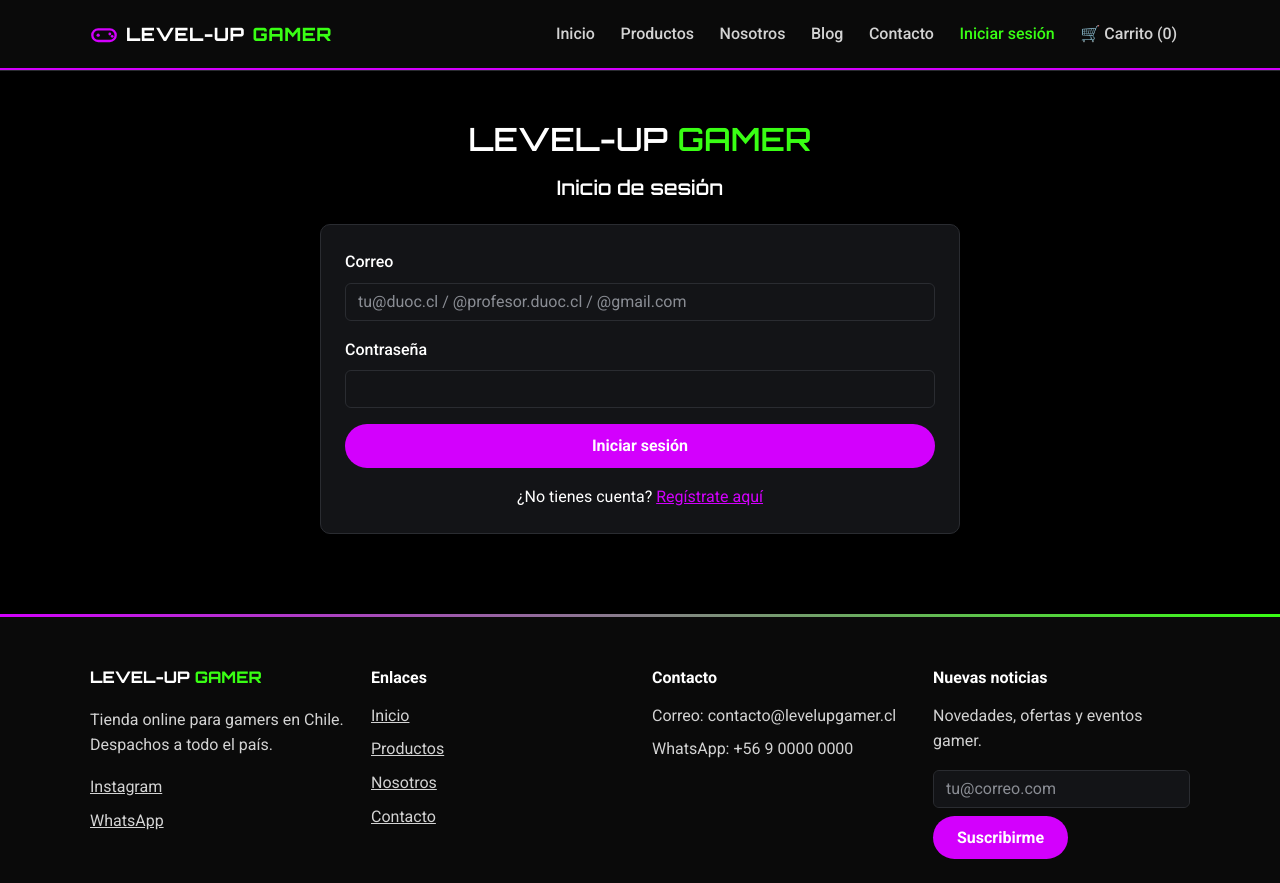
<Login /> (formulario de inicio de sesión) › con credenciales incorrectas muestra el error y no inicia sesión
The image size is (1280, 883).
Type "ana@gmail.com" into the field labelled "Correo" at [640, 302], box [345,283,935,321]
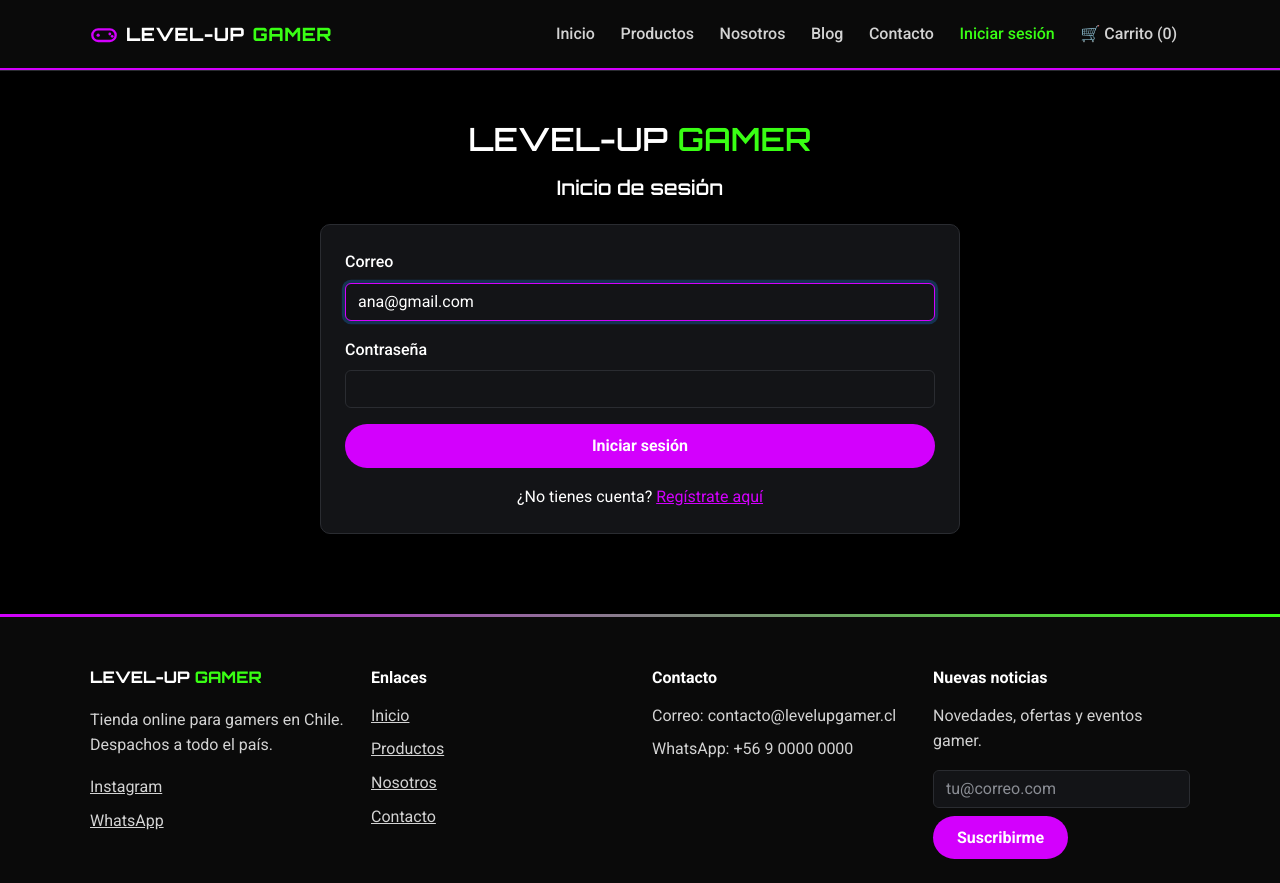
Type "mala" into the password field labelled "Contraseña" at [640, 389], box [345,370,935,408]
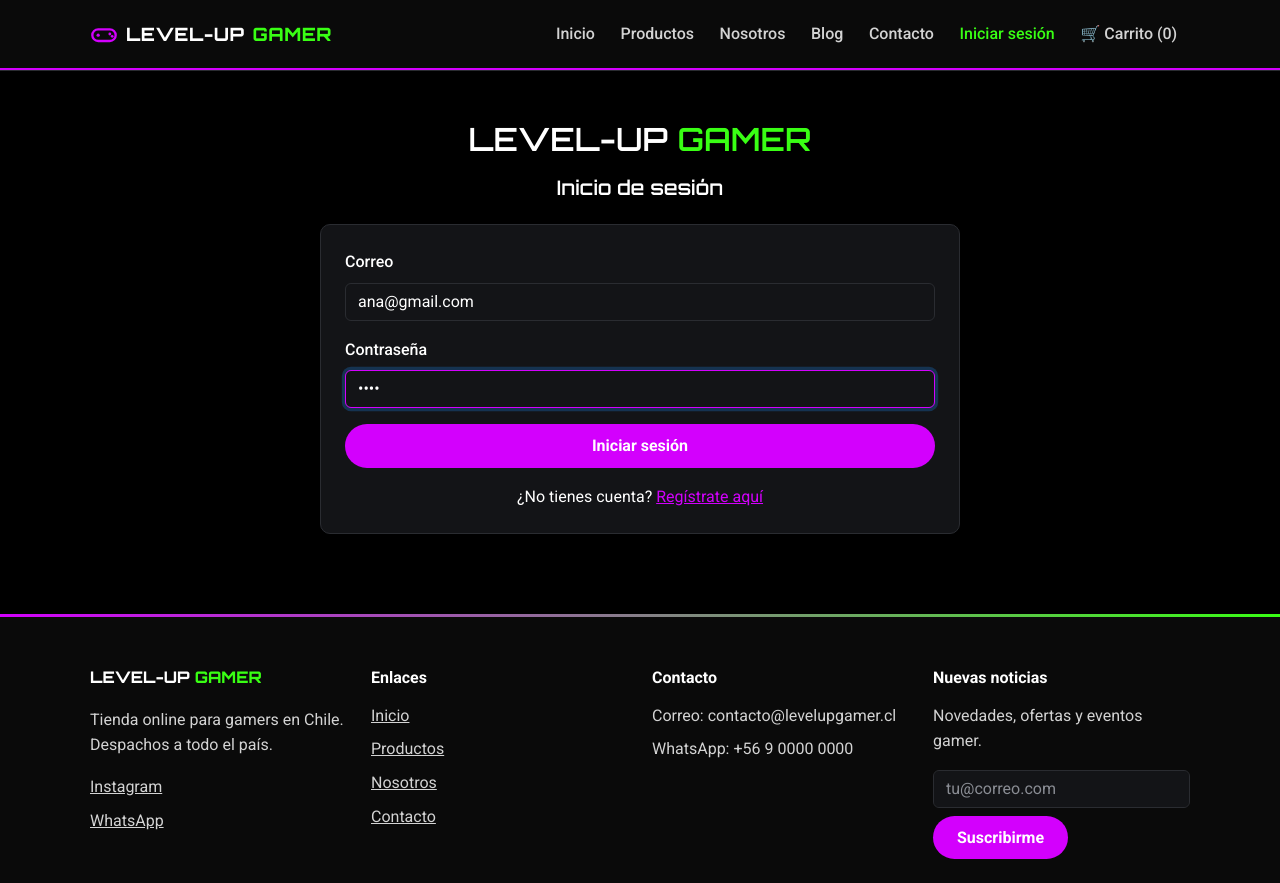
Click the button "Iniciar sesión" at [640, 446], box [345,424,935,468]
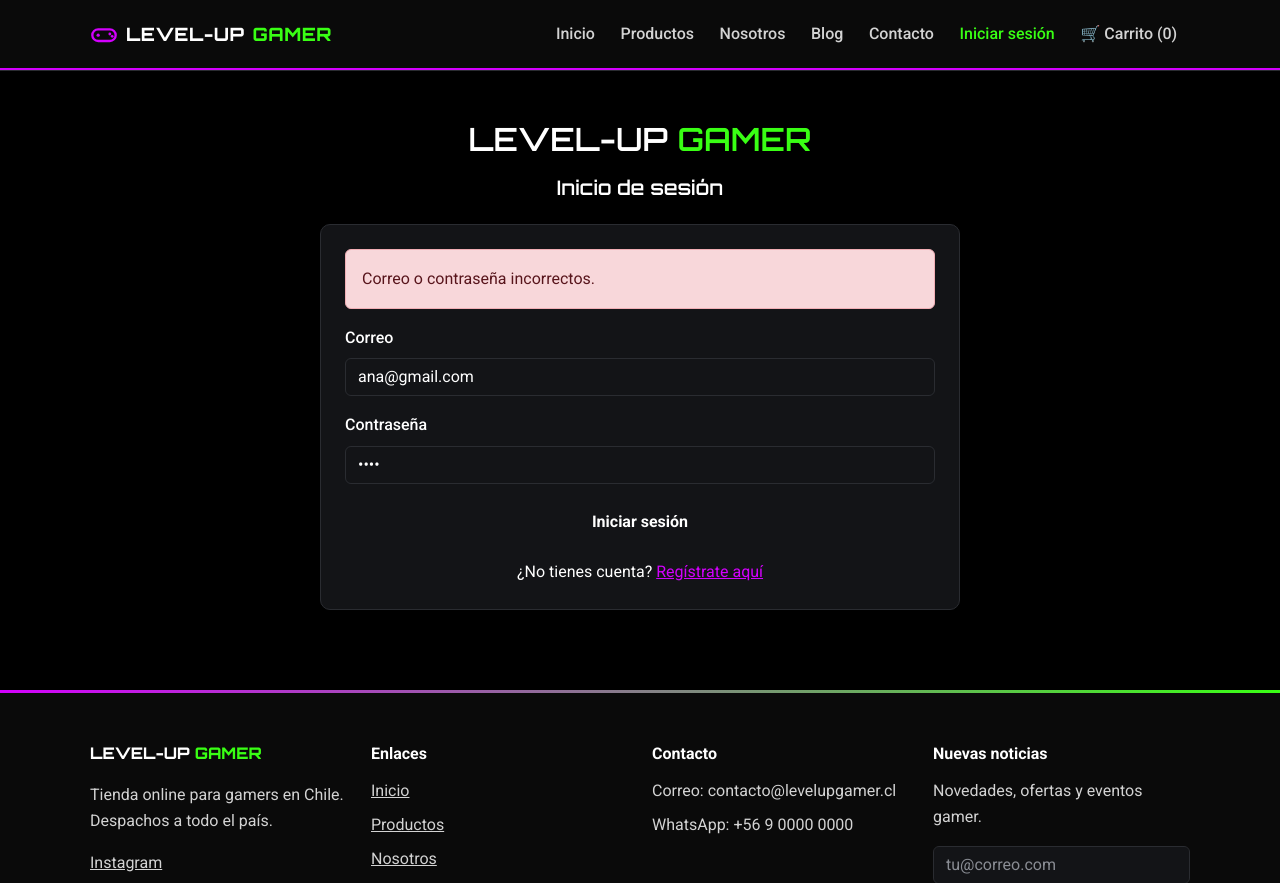
Expected: the heading "Inicio de sesión" is shown, [557,175,723,200]
Expected: the message reads "Correo o contraseña incorrectos.", [362,269,595,288]
